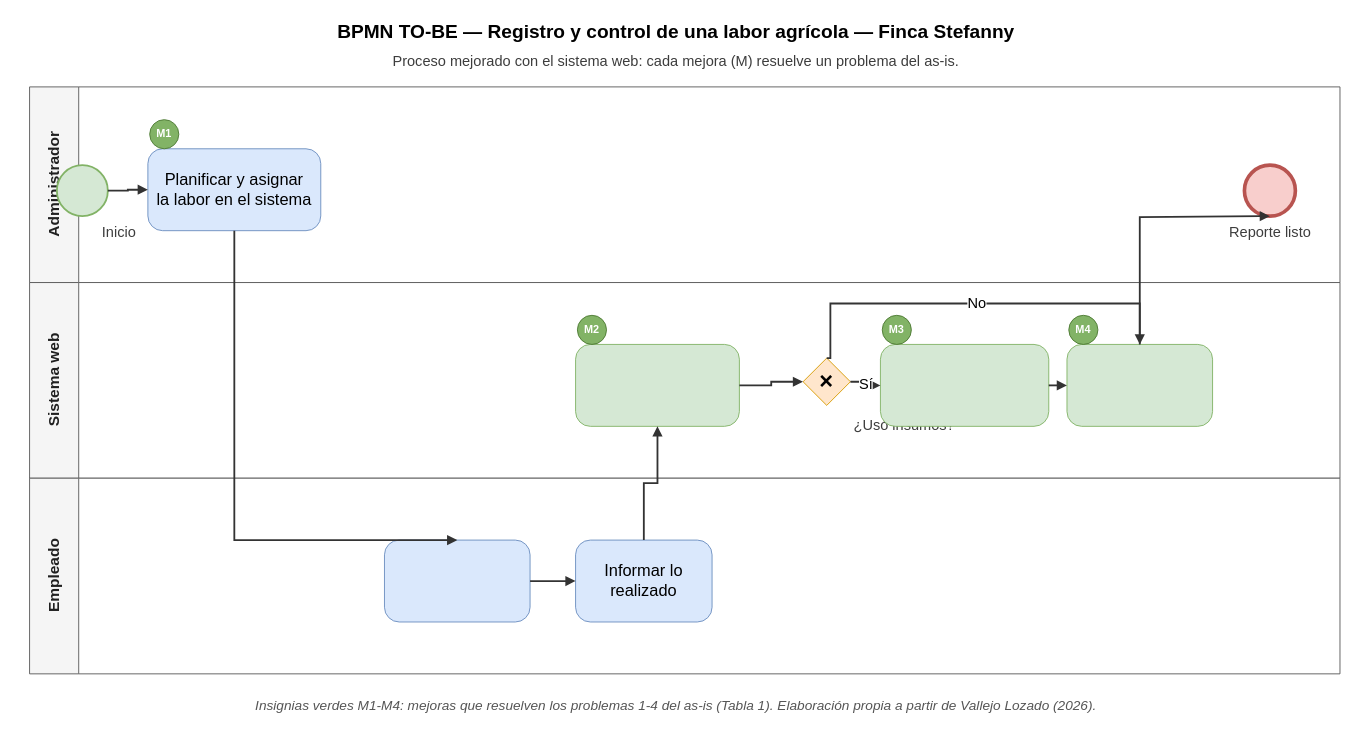
The diagram is 1356 pixels wide and 730 high, and some of its shapes have lost their labels. The shapes that lost their labels are listed below. From the top down, each one's centre as x and y in pixels, then its label:
(x=657, y=385): Registrar la labor en el sistema
(x=964, y=385): Descontar insumos del inventario
(x=1139, y=385): Generar reporte e indicadores
(x=457, y=580): Ejecutar la labor en el lote
